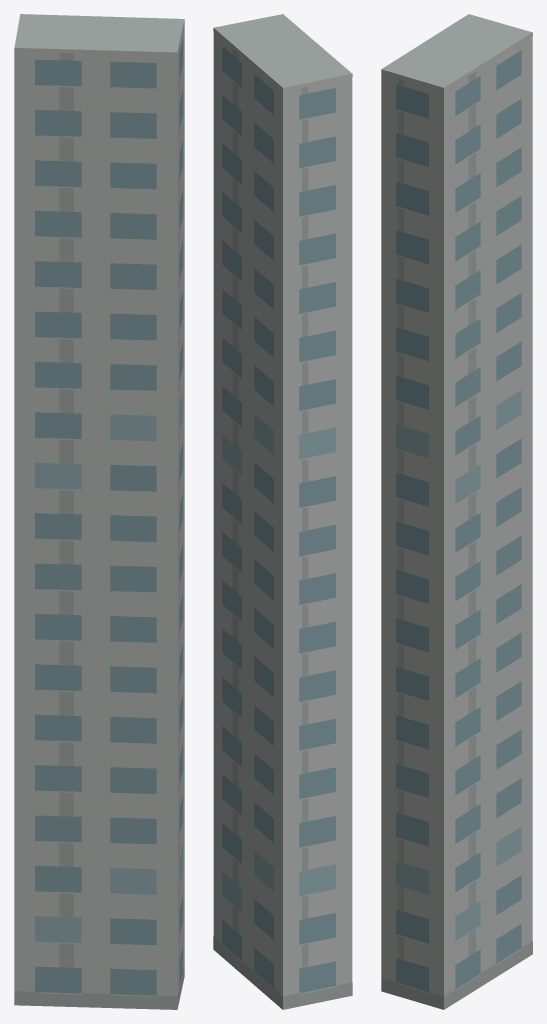
Rendered from survey-upis-32740371.glb.
3 renders of one model, left to right at view 1: azimuth 30°, elevation 25°; view 2: azimuth 150°, elevation 25°; view 3: azimuth 270°, elevation 25°, orthographic. The views are drawn at different scales.
Parts seen in each view (by area): view 1: survey-upis-32740371.tmp; view 2: survey-upis-32740371.tmp; view 3: survey-upis-32740371.tmp.
Part boxes in pixels (x1,y1,x2,y2): survey-upis-32740371.tmp: (14,14,184,1009); survey-upis-32740371.tmp: (213,14,352,1009); survey-upis-32740371.tmp: (381,14,532,1009).
Size of the model in its own units: 9.97 by 57.95 by 8.64.
